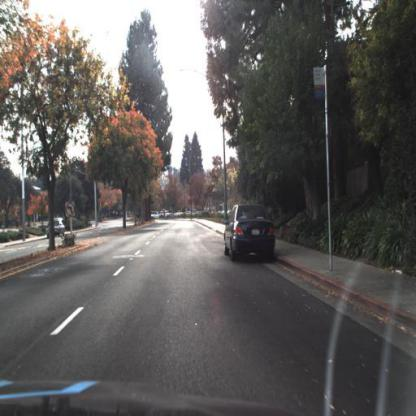car: (222, 201, 280, 266), (46, 217, 66, 237)
